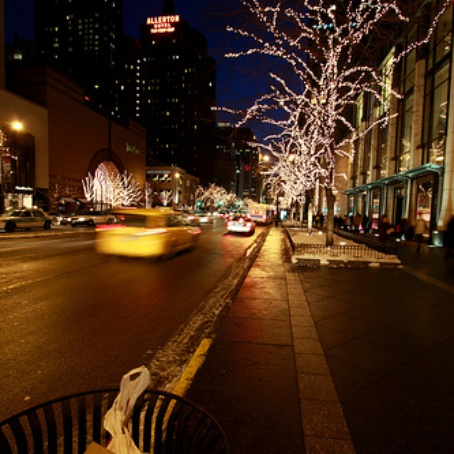building: (327, 1, 454, 248), (1, 67, 141, 207), (136, 13, 221, 167), (39, 1, 137, 108)
sidewalk: (253, 220, 454, 454)
street: (1, 222, 249, 440)
tree: (224, 1, 392, 254)
